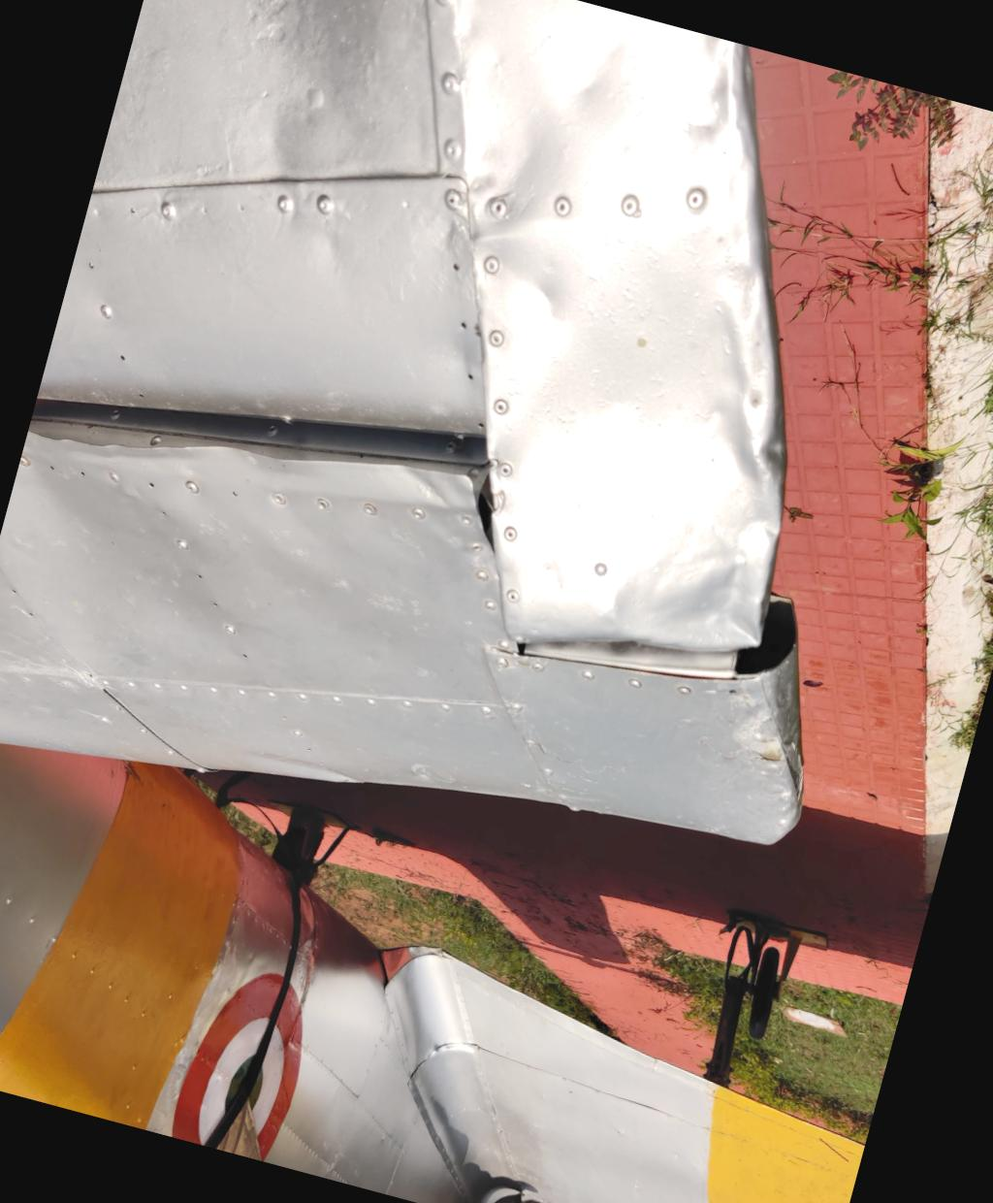dent: (363, 0, 661, 374), (605, 256, 857, 536), (578, 456, 807, 689), (632, 25, 790, 192)
